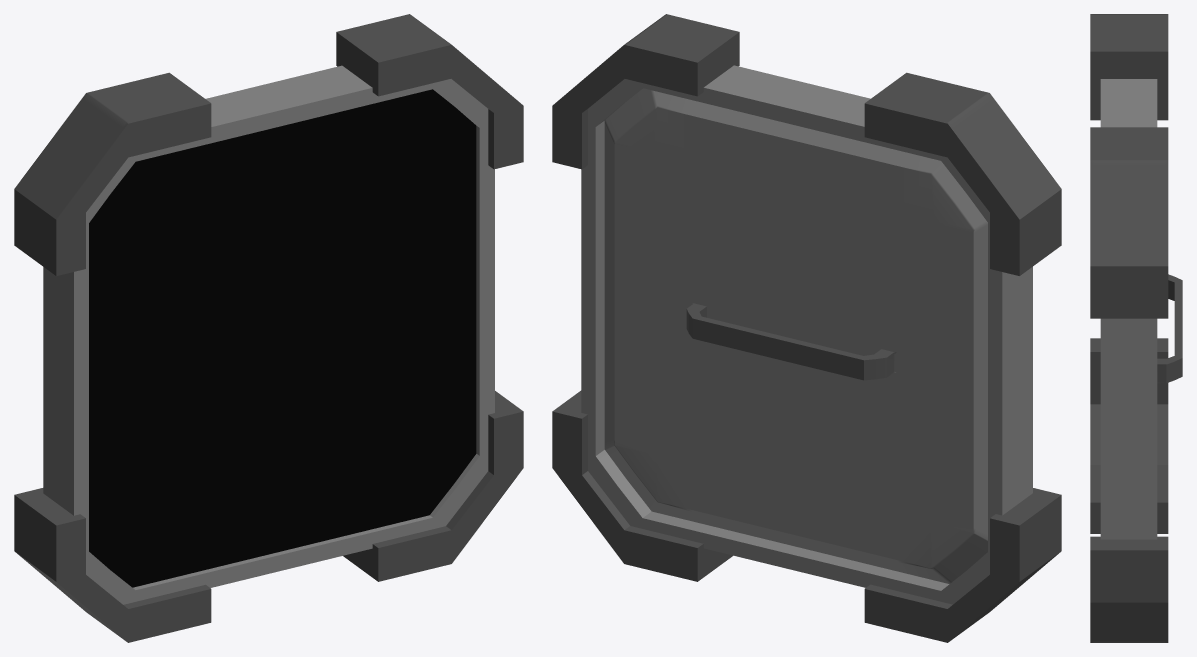
File: mirror_01.fbx
3 views of the same model, side by side, from view 1: azimuth 30°, elevation 25°; view 2: azimuth 150°, elevation 25°; view 3: azimuth 270°, elevation 25° (orthographic). The views are drawn at different scales.
Parts seen in each view (by area): view 1: mirror_geo2, mirror_geo1; view 2: mirror_geo1; view 3: mirror_geo1.
Boxes of the visible parts, box(x1,y1,x2,y2) form: mirror_geo2: box(89, 89, 476, 587); mirror_geo1: box(14, 14, 523, 642); mirror_geo1: box(552, 14, 1061, 642); mirror_geo1: box(1090, 14, 1182, 642).
Bounding box in the file's own units: 2.17 × 2.3 × 0.3991.
